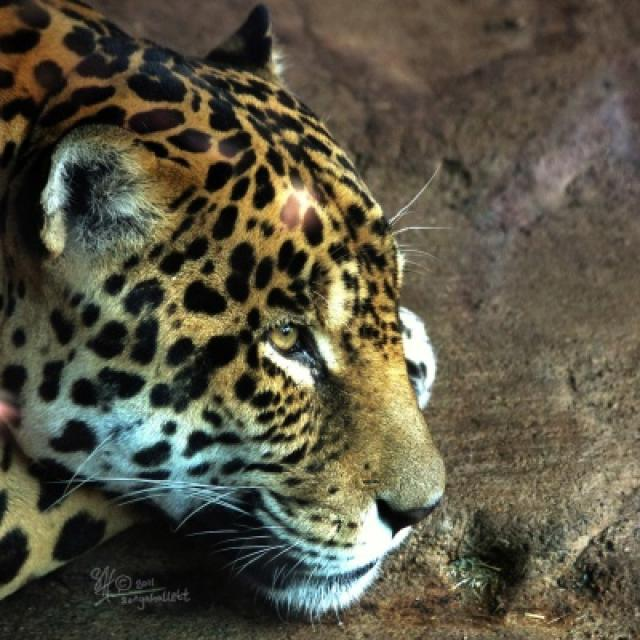Jaguar: (0, 0, 446, 626)
